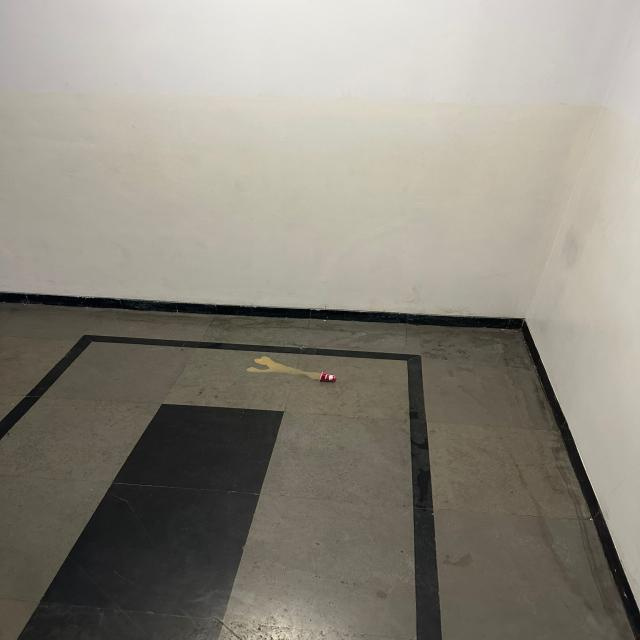cup: (320, 372, 336, 382)
spill: (252, 356, 320, 381)
